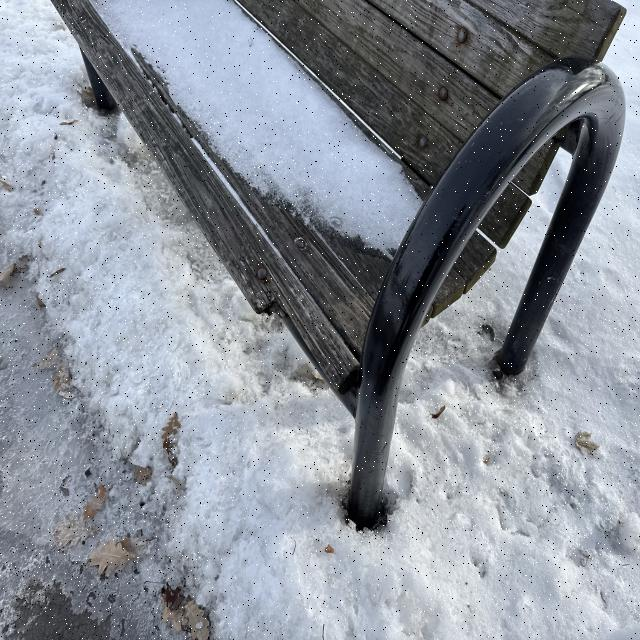Bench: (211, 0, 626, 510)
